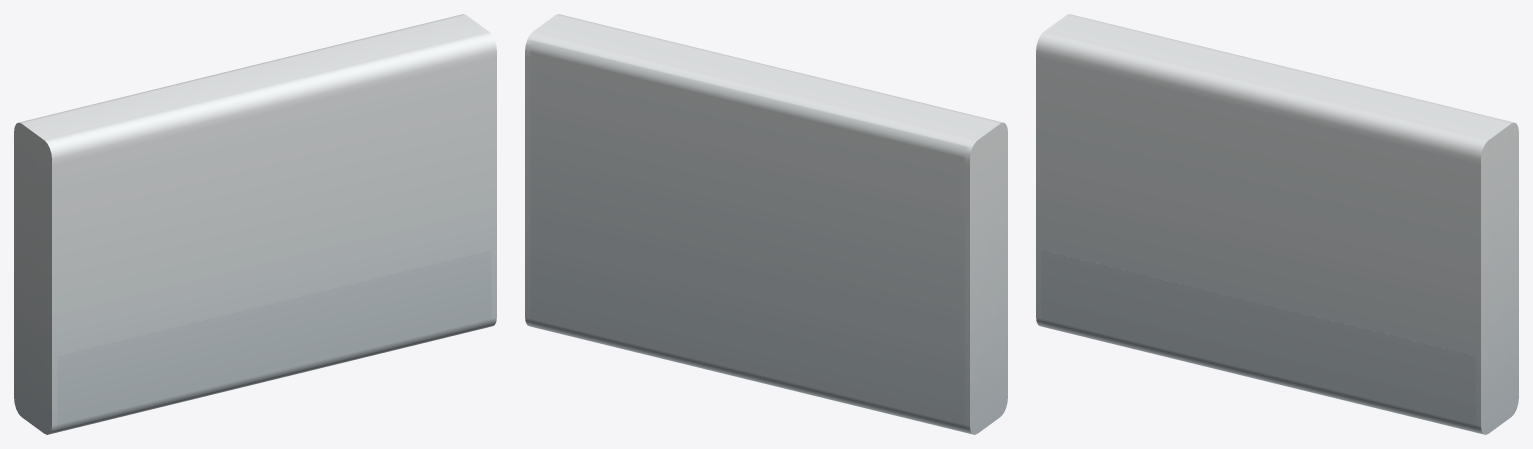
The model's file is CassetteCover.fbx.
3 renders of one model, left to right at view 1: azimuth 30°, elevation 25°; view 2: azimuth 150°, elevation 25°; view 3: azimuth 330°, elevation 25°, orthographic.
Visible parts, largest first — view 1: CassetteCover_Lid, CassetteCover_Base; view 2: CassetteCover_Base, CassetteCover_Lid; view 3: CassetteCover_Lid, CassetteCover_Base.
Part boxes in pixels (x1=…): CassetteCover_Lid: x1=14, y1=14, x2=496, y2=434; CassetteCover_Base: x1=53, y1=250, x2=491, y2=433; CassetteCover_Base: x1=530, y1=40, x2=968, y2=433; CassetteCover_Lid: x1=525, y1=14, x2=1007, y2=434; CassetteCover_Lid: x1=1036, y1=14, x2=1518, y2=434; CassetteCover_Base: x1=1041, y1=250, x2=1479, y2=433.
Bounding box in the file's own units: 10.8 × 6.81 × 1.6.
